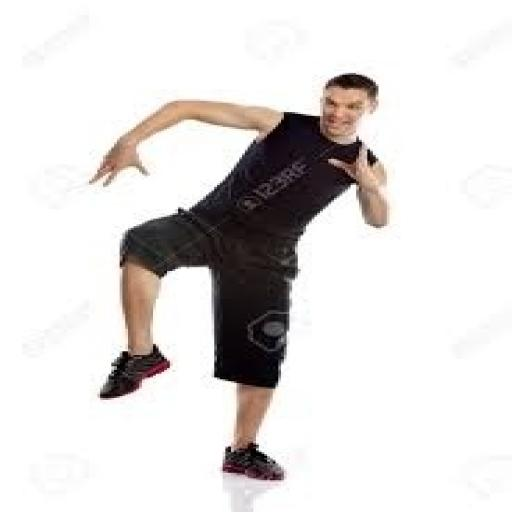dancing: (84, 71, 395, 484)
